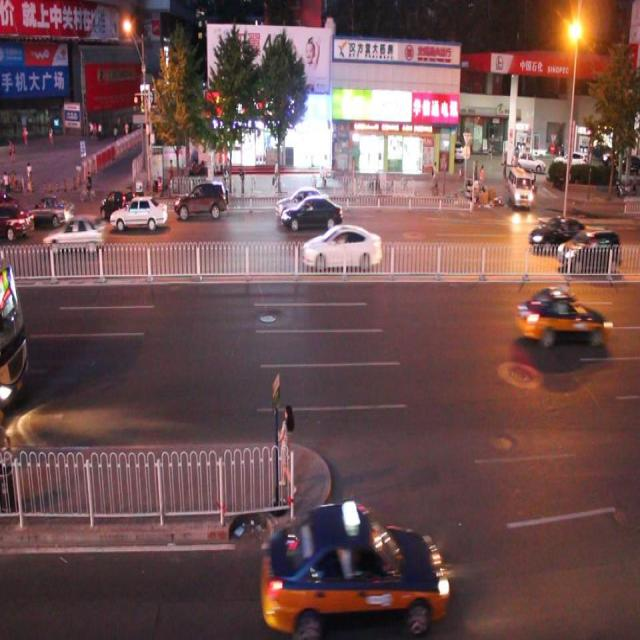car: (258, 495, 448, 640), (513, 284, 607, 348), (299, 220, 382, 271), (556, 226, 620, 272), (42, 212, 107, 254), (526, 214, 590, 254), (282, 194, 344, 235), (176, 179, 236, 220), (16, 188, 73, 228), (277, 184, 332, 223), (110, 196, 167, 231), (103, 185, 147, 225), (1, 200, 35, 238)
truck: (506, 164, 532, 208)
